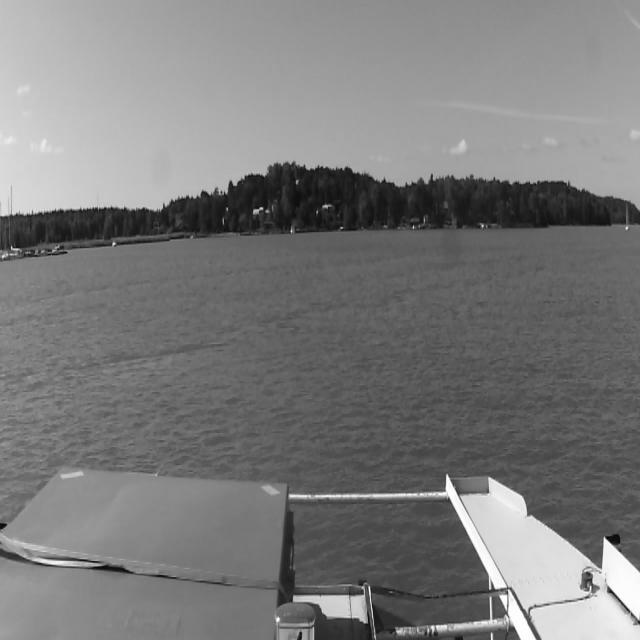ship: (1, 186, 23, 258), (52, 241, 66, 254)
